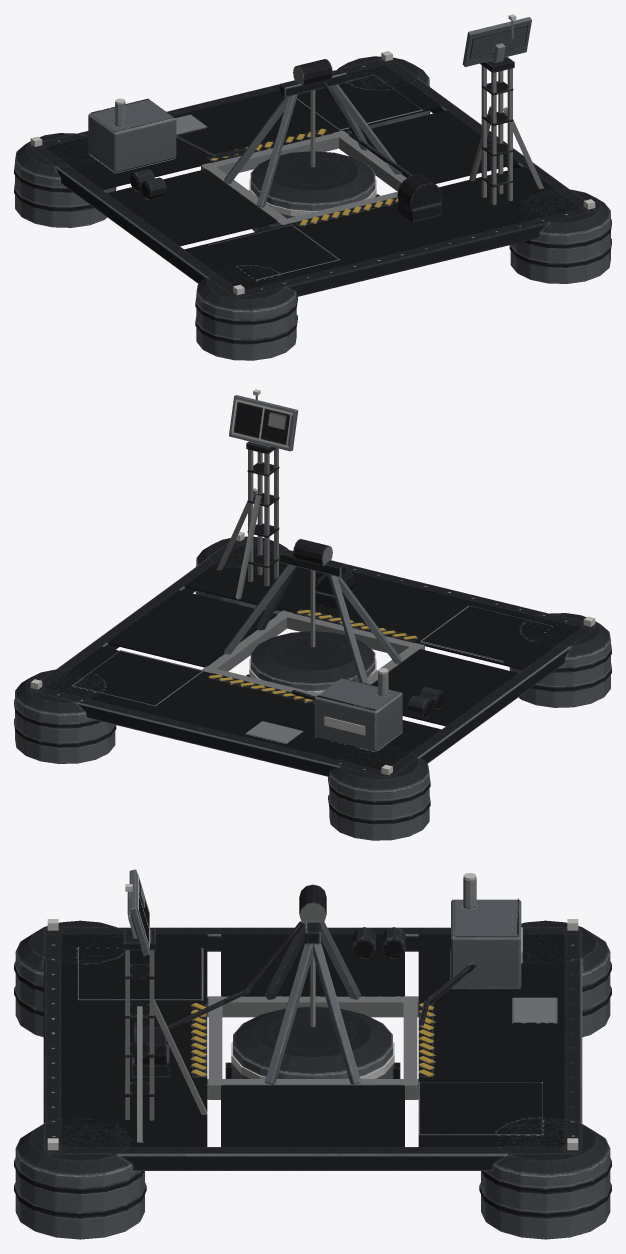
File: chs_deepear.fbx
3 renders of one model, top to bottom at view 1: azimuth 30°, elevation 25°; view 2: azimuth 150°, elevation 25°; view 3: azimuth 270°, elevation 25°, orthographic. The views are drawn at different scales.
Visible parts, largest first — view 1: base_bar, drum_bar, base_glow_running_bar; view 2: base_bar, drum_bar, base_glow_running_bar; view 3: base_bar, drum_bar, base_glow_running_bar, drum_glow_power_bar.
Part boxes in pixels (box(x1,y1,x2,y2)): base_bar: box(14, 17, 611, 360); drum_bar: box(250, 90, 379, 231); base_glow_running_bar: box(30, 14, 595, 295); base_bar: box(14, 395, 611, 840); drum_bar: box(246, 570, 375, 691); base_glow_running_bar: box(30, 389, 595, 775); base_bar: box(14, 869, 611, 1239); drum_bar: box(225, 955, 400, 1078); base_glow_running_bar: box(47, 874, 578, 1150); drum_glow_power_bar: box(231, 1042, 394, 1078).
Size of the model in its own units: 2210 by 1299 by 2210.
2 materials, 2 textured.
